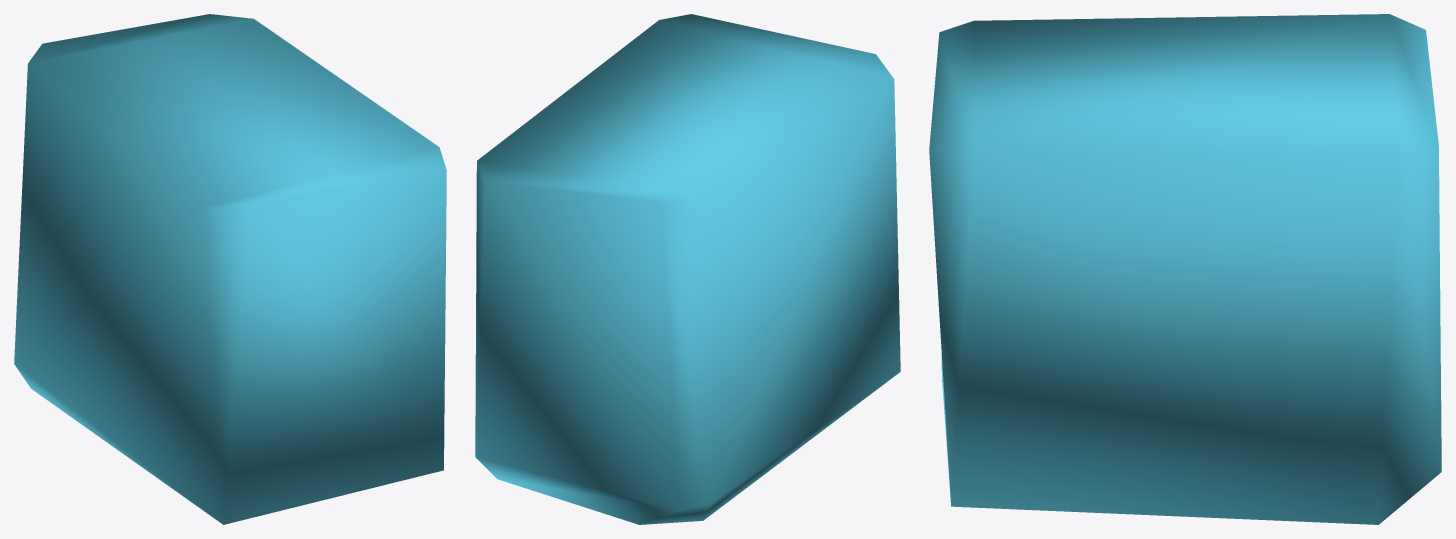
File: brick_08.FBX
3 views of the same model, side by side, from view 1: azimuth 30°, elevation 25°; view 2: azimuth 150°, elevation 25°; view 3: azimuth 270°, elevation 25° (orthographic). The views are drawn at different scales.
Parts seen in each view (by area): view 1: brick_08; view 2: brick_08; view 3: brick_08.
Boxes of the visible parts, x1,y1,x2,y2 form: brick_08: (14, 14, 446, 524); brick_08: (475, 14, 900, 524); brick_08: (929, 14, 1441, 524).
Bounding box in the file's own units: 9.85 × 13.46 × 16.02.
